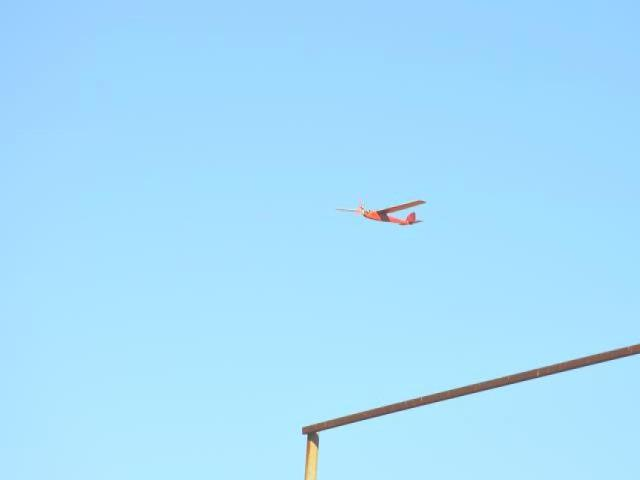iha: (337, 200, 422, 224)
